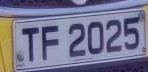0: (86, 19, 106, 58)
2: (67, 19, 88, 62), (104, 16, 123, 56)
5: (122, 15, 143, 55)
F: (39, 23, 63, 66)
T: (18, 25, 41, 66)
